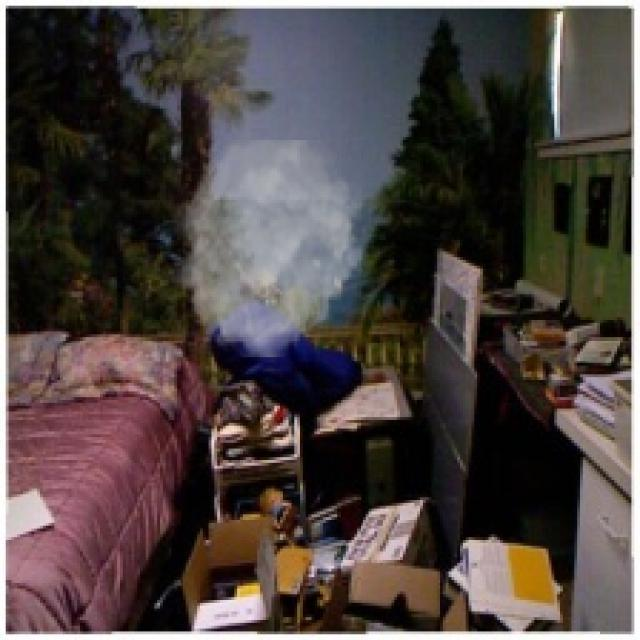Smoke: (168, 140, 372, 357)
